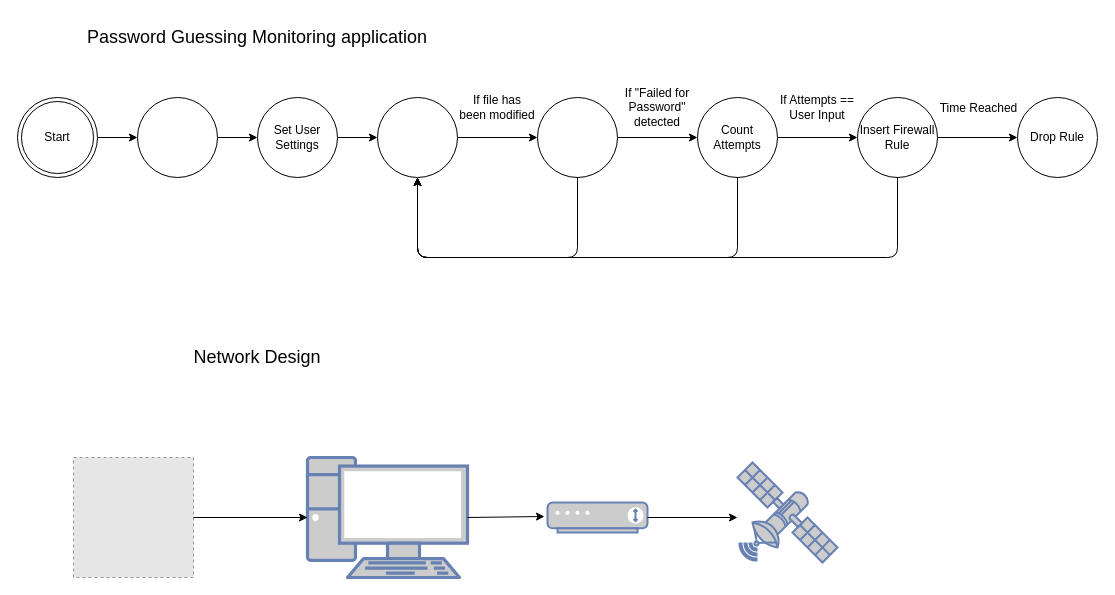
The diagram is 1115 pixels wide and 595 high, and some of its shapes have lost their labels. Grey dashed boxes stand in for pictures. Here are the shapes that lost their labels. From the top down, the centre of each, then its label:
At point 177,137: "Set as CronTab".
At point 417,137: "Monitor File".
At point 577,137: "Go through file".
